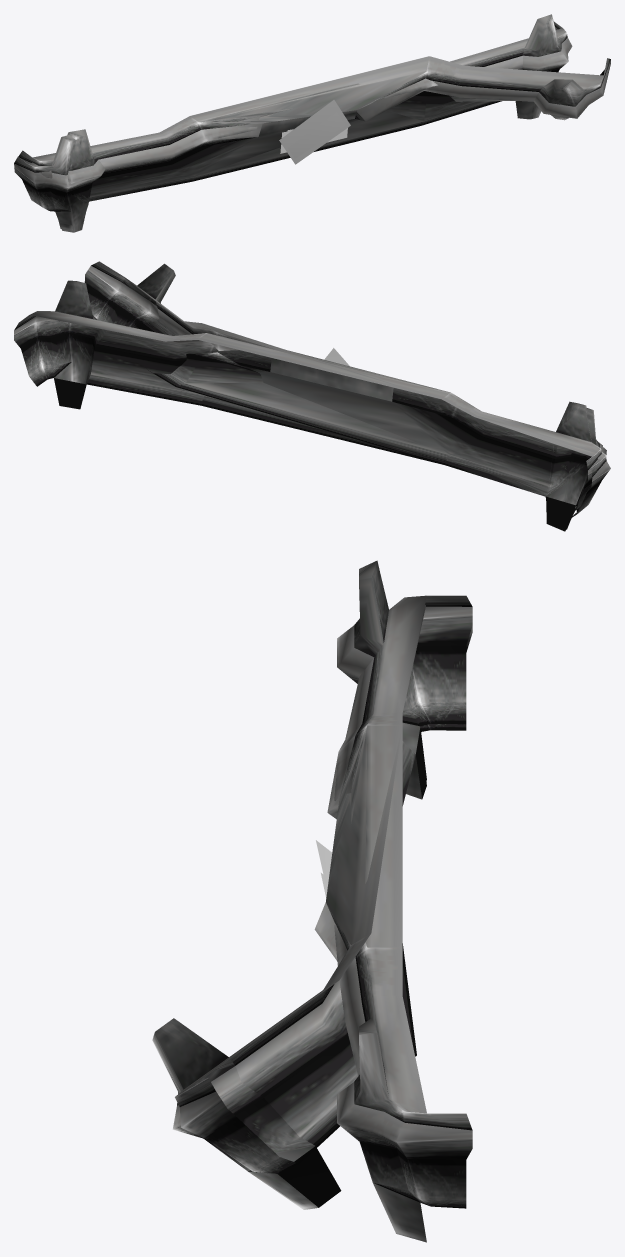
The model's file is rbmp_lr_sv1.glb.
The picture shows the model from 3 angles, top to bottom: view 1: azimuth 30°, elevation 25°; view 2: azimuth 150°, elevation 25°; view 3: azimuth 270°, elevation 25°; orthographic projection. The views are drawn at different scales.
Parts seen in each view (by area): view 1: rbmp_lr_sv1_dam, rbmp_lr_sv1; view 2: rbmp_lr_sv1, rbmp_lr_sv1_dam; view 3: rbmp_lr_sv1, rbmp_lr_sv1_dam.
Boxes of the visible parts, left/top/right/bottom form: rbmp_lr_sv1_dam: left=14, top=56, right=610, bottom=232; rbmp_lr_sv1: left=18, top=14, right=572, bottom=231; rbmp_lr_sv1: left=14, top=280, right=602, bottom=529; rbmp_lr_sv1_dam: left=84, top=261, right=610, bottom=531; rbmp_lr_sv1: left=334, top=561, right=472, bottom=1242; rbmp_lr_sv1_dam: left=152, top=560, right=472, bottom=1209.
Size of the model in its own units: 2.43 by 0.469 by 0.6233.
4 materials, 4 textured.
